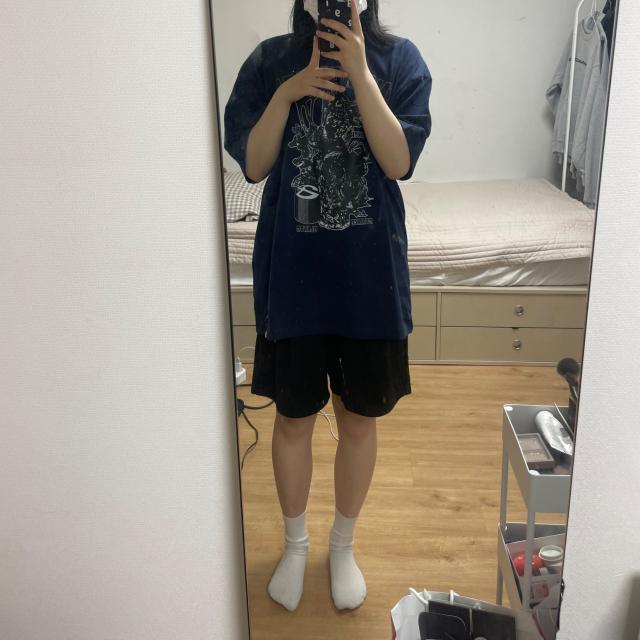shortpants: (249, 322, 411, 420)
shortsleeve: (224, 26, 432, 346)
